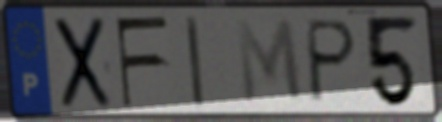5: (361, 13, 420, 109)
F: (112, 14, 172, 111)
I: (182, 13, 207, 110)
M: (233, 16, 307, 107)
P: (305, 17, 360, 106)
X: (53, 14, 114, 112)
